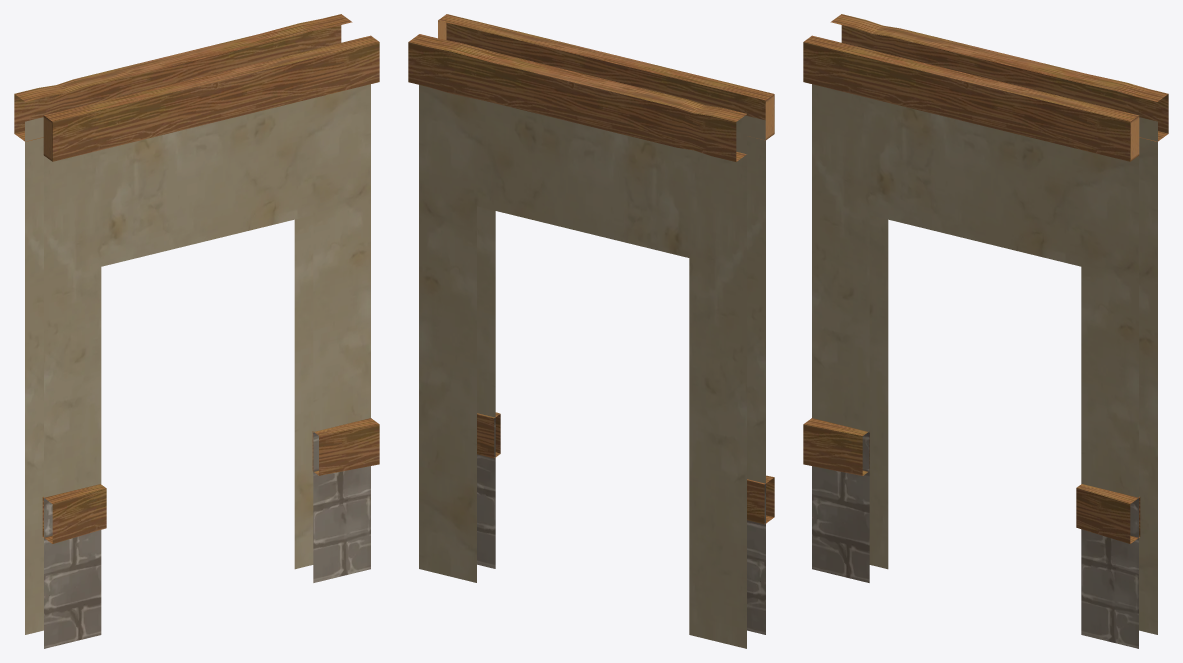
File: wall_plaster_door_flat.glb
3 views of the same model, side by side, from view 1: azimuth 30°, elevation 25°; view 2: azimuth 150°, elevation 25°; view 3: azimuth 330°, elevation 25° (orthographic).
Bounding box in the file's own units: 2 × 3.12 × 0.4066.
Materials: 3 (3 with a texture image).
